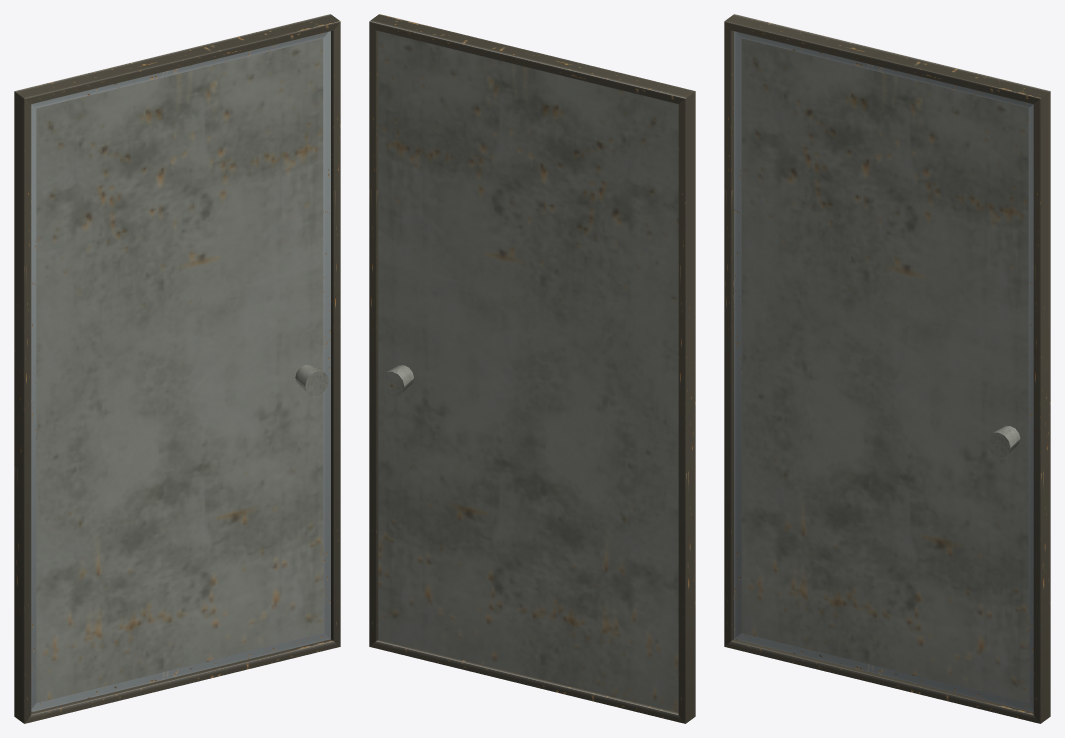
The model's file is bil_door3o.fbx.
The picture shows the model from 3 angles, left to right: view 1: azimuth 30°, elevation 25°; view 2: azimuth 150°, elevation 25°; view 3: azimuth 330°, elevation 25°; orthographic projection.
Visible parts, largest first — view 1: bil_door3o_b, bil_door3o_a; view 2: bil_door3o_b, bil_door3o_a; view 3: bil_door3o_b, bil_door3o_a.
Boxes of the visible parts, left/top/right/bottom form: bil_door3o_b: left=31, top=31, right=330, bottom=712; bil_door3o_a: left=14, top=14, right=340, bottom=723; bil_door3o_b: left=378, top=31, right=678, bottom=712; bil_door3o_a: left=369, top=14, right=695, bottom=723; bil_door3o_b: left=734, top=31, right=1033, bottom=712; bil_door3o_a: left=724, top=14, right=1050, bottom=723.
Size of the model in its own units: 111 by 209 by 17.45.
